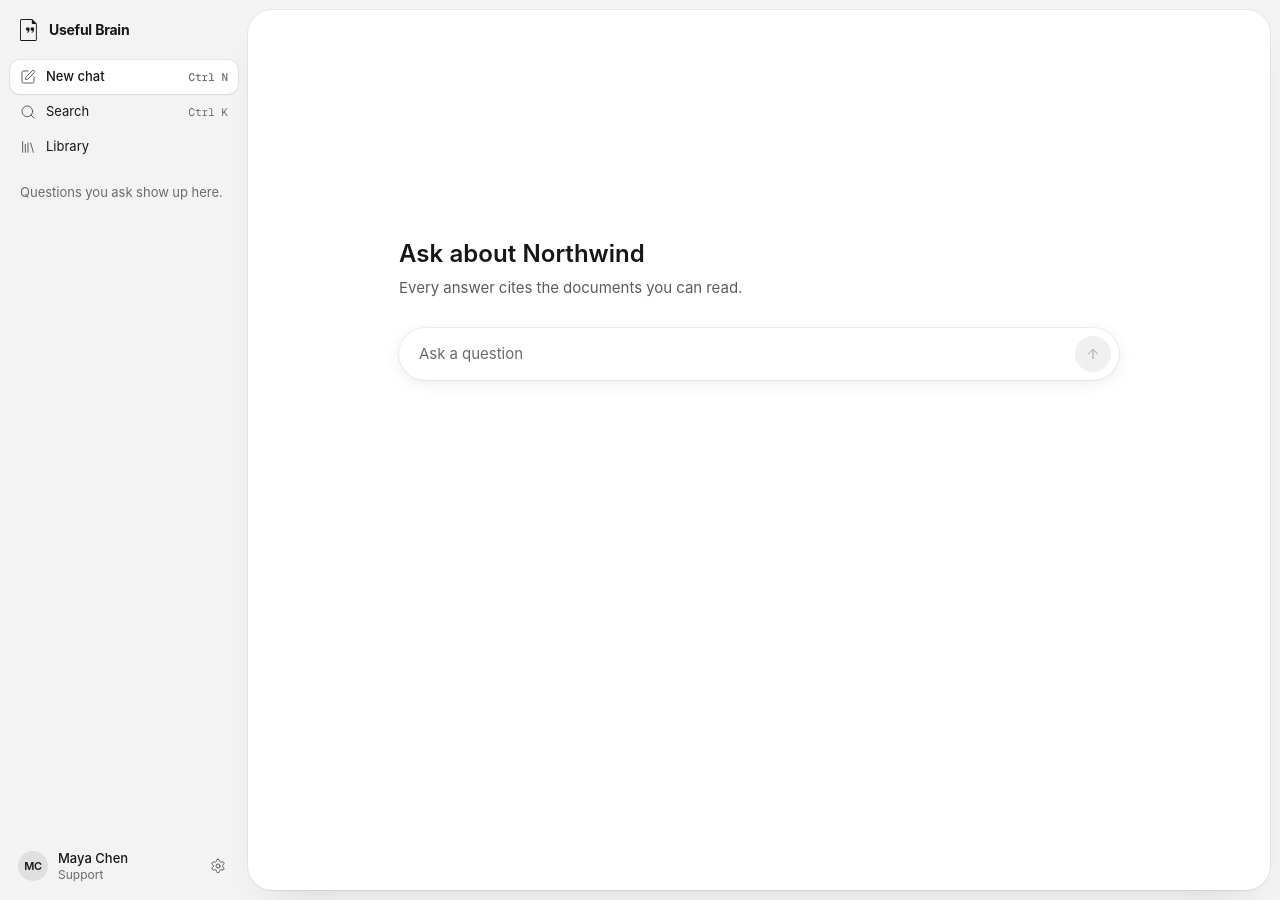
Test case: answer › numbers chips from the validated citations and lists only cited sources
Type "How much parental leave do I get?" into the text box labelled "question" at x=747, y=354, box 419,342 -> 1075,366
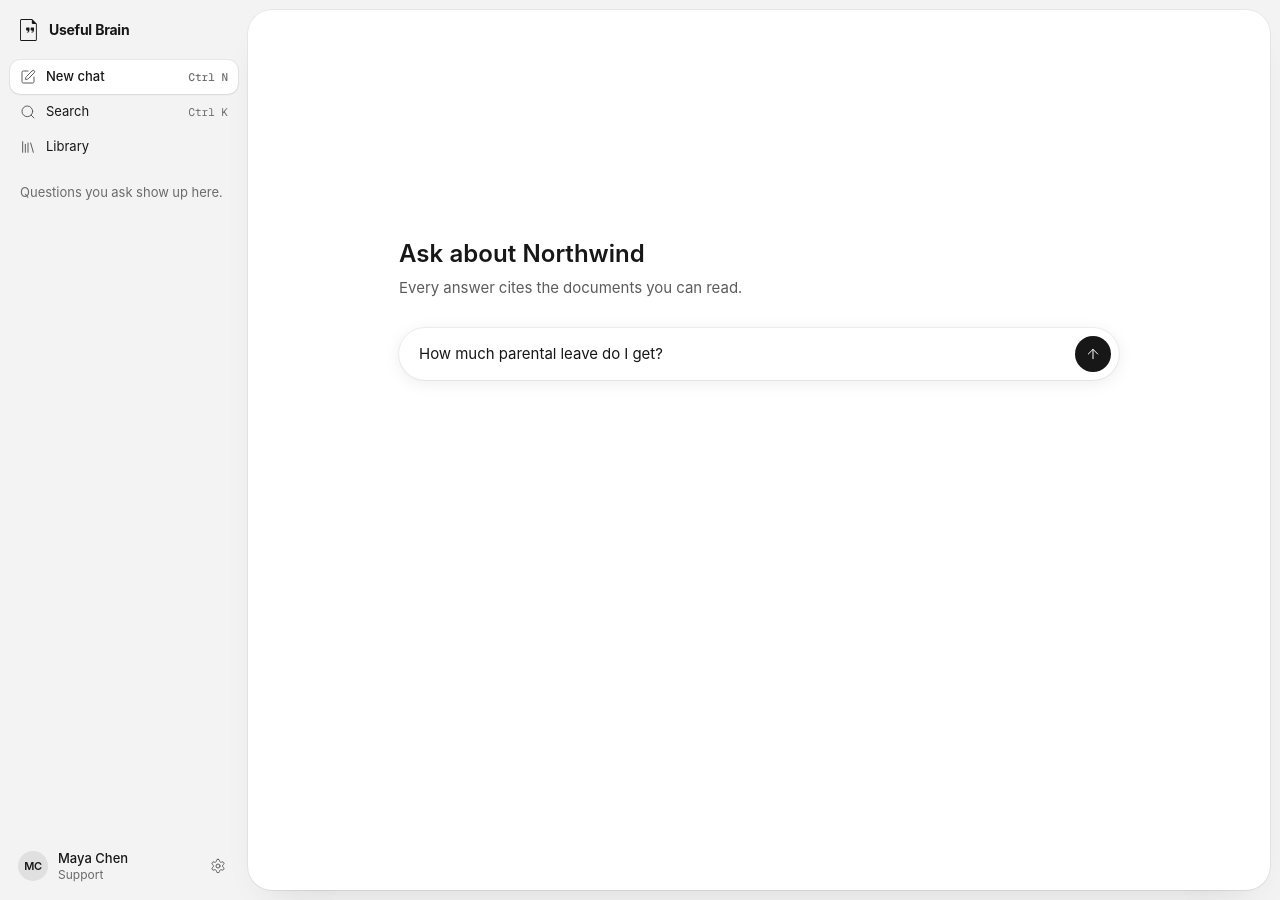
Click the button named "Send" at x=1093, y=354, box 1075,336 -> 1111,372
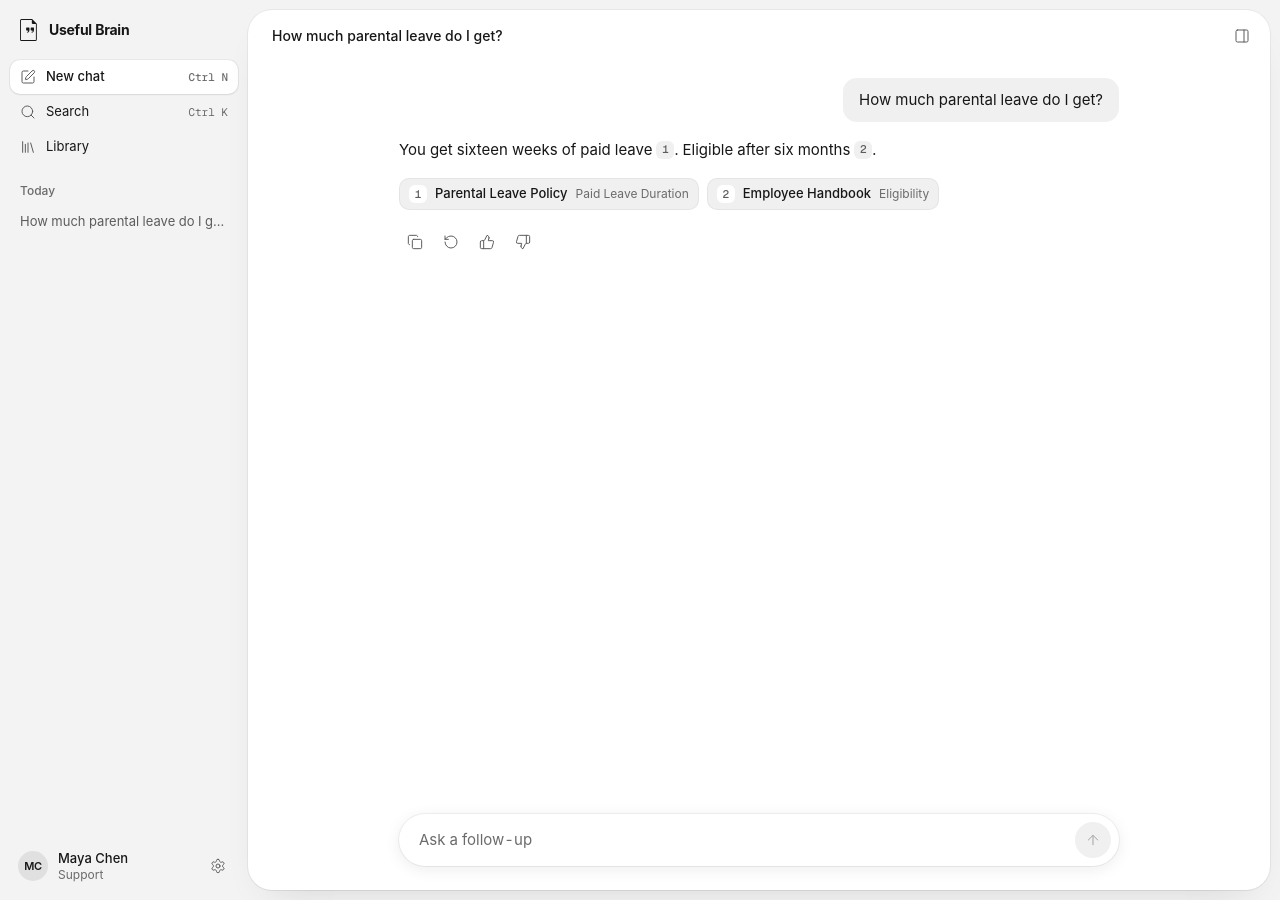
Result: the text "You get sixteen weeks" is shown at 399,140 -> 656,159
Result: the button named "Citation 1" is shown at 656,140 -> 674,158
Result: the button named "Citation 2" is shown at 854,140 -> 872,158
